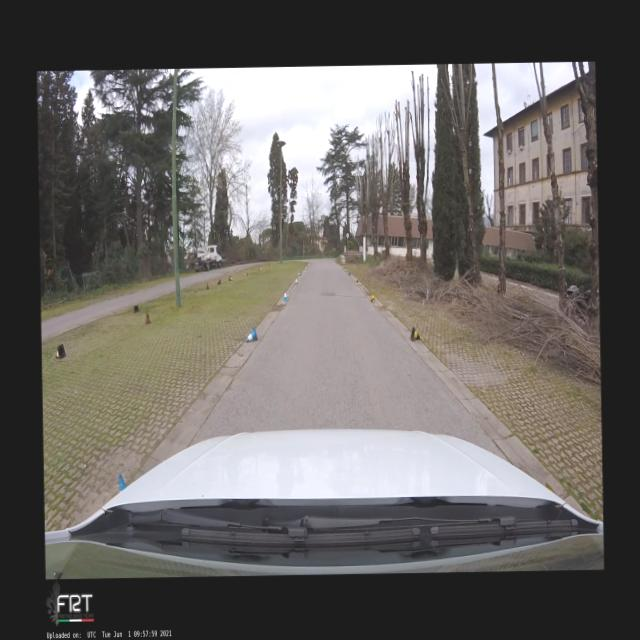blue_cone: (245, 327, 257, 341), (118, 473, 126, 493), (283, 290, 288, 300), (294, 277, 298, 284), (298, 271, 300, 275), (304, 264, 306, 268), (308, 262, 310, 266)
unknown_cone: (55, 344, 66, 358), (144, 310, 152, 324), (133, 304, 139, 312), (216, 280, 221, 284), (228, 275, 232, 280), (206, 281, 208, 289), (258, 266, 262, 270), (244, 272, 247, 276), (268, 263, 271, 266), (348, 270, 350, 274)
yellow_cone: (410, 326, 422, 342), (370, 294, 375, 303), (354, 277, 358, 285), (343, 266, 344, 270), (340, 263, 341, 266)
